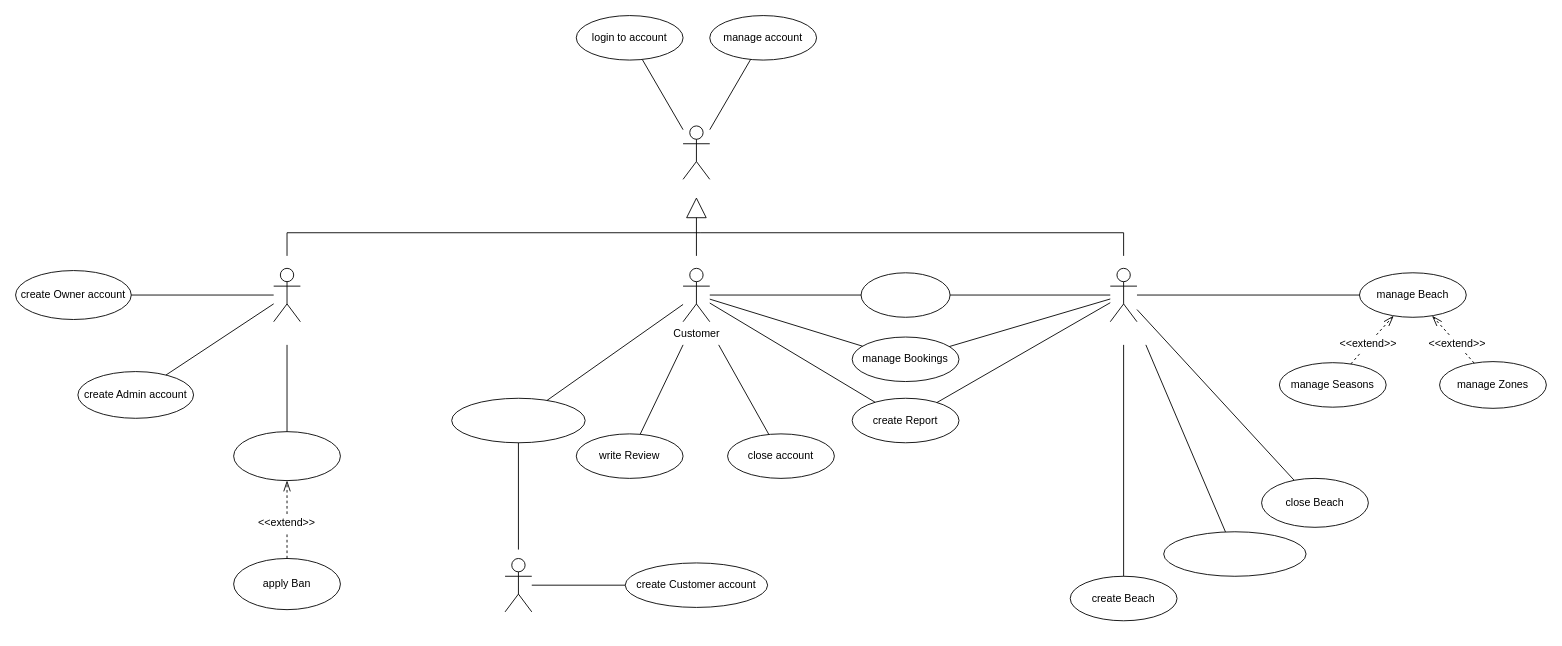
This 1562x646 diagram has some shape labels left out. Each missing label, with the box of its shape:
activate/deactivate Beach: (1163, 531, 1306, 576)
Admin: (273, 267, 300, 322)
browse active Beaches: (451, 397, 585, 443)
create Booking: (860, 272, 950, 317)
Guest: (504, 558, 532, 612)
Owner: (1109, 267, 1137, 322)
review Reports: (233, 431, 340, 481)
User: (682, 125, 710, 179)
